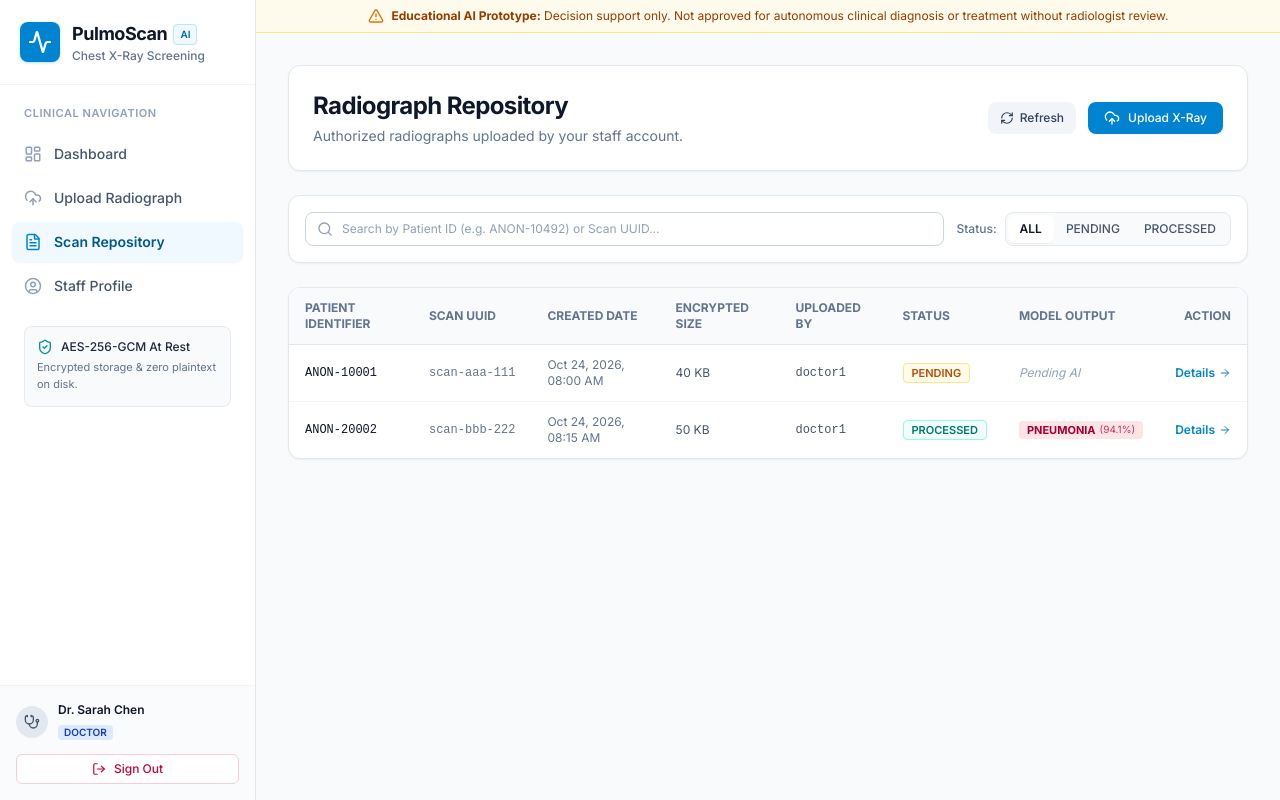
ScansHistoryPage › filters scan records by pseudonymous patient ID
Expected: the text "ANON-10001" is shown, [289, 344, 413, 402]
In the field with placeholder "Search by Patient ID (e.g. ANON-10492) or Scan UUID...": (625, 229) [305, 212, 944, 246], type "20002"
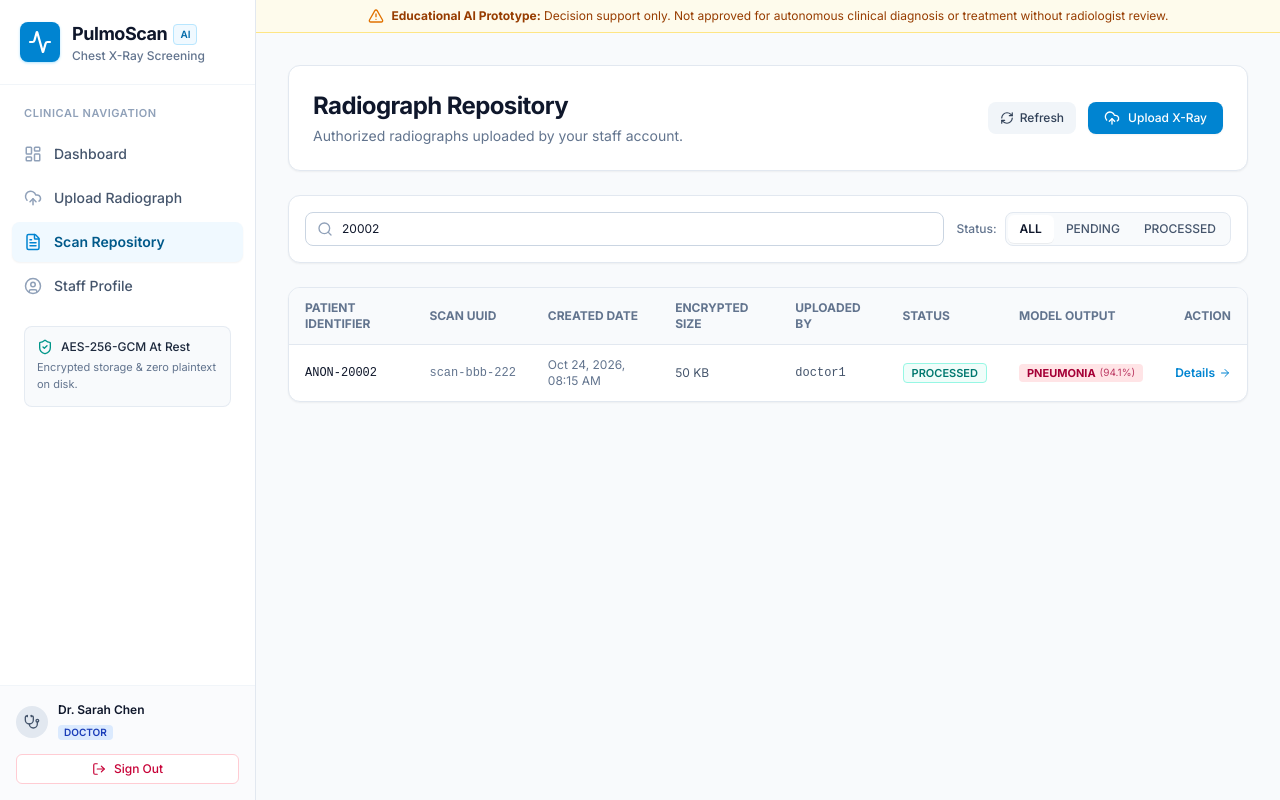
Expected: the text "ANON-20002" is shown, [289, 344, 413, 401]
Expected: the text "ANON-10001" is gone
